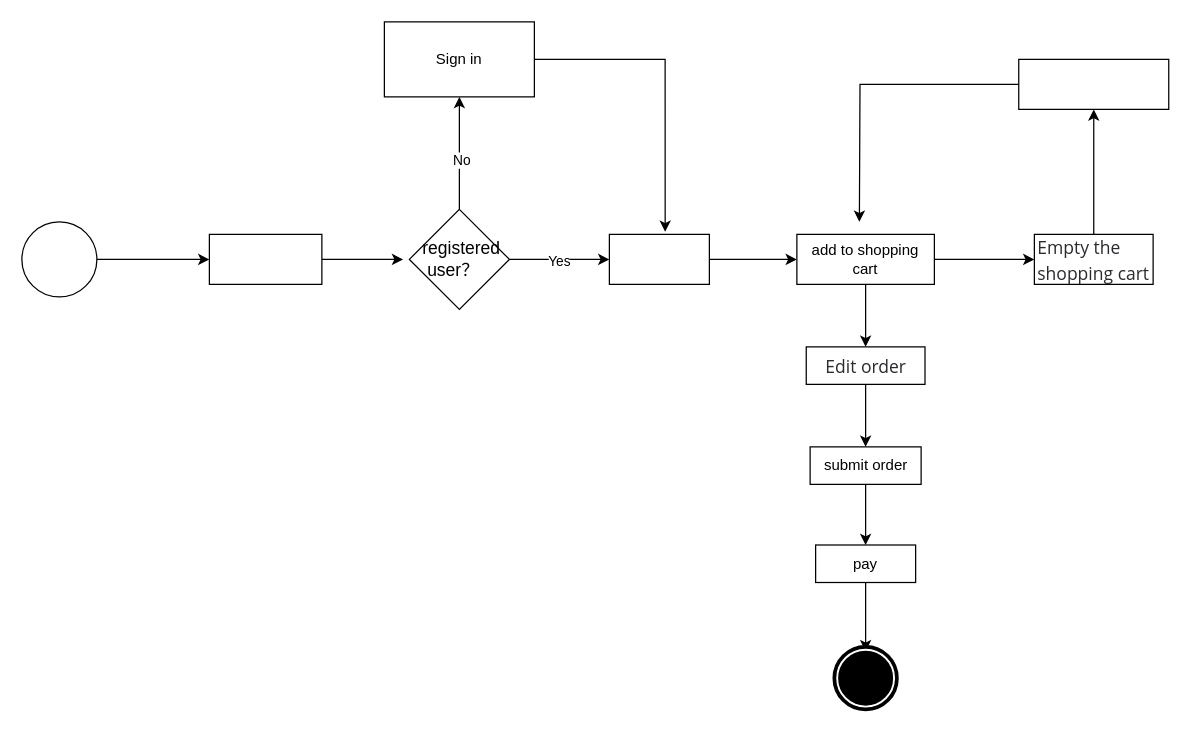
Some shapes in this 1191 by 731 pixel diagram are drawn without their labels. The shapes that lost their labels are listed below. From the top down, each one's centre as x and y in pixels, then its label:
At point 1093,83: "Reselect products".
At point 265,258: "select goods".
At point 658,258: "Log in".
